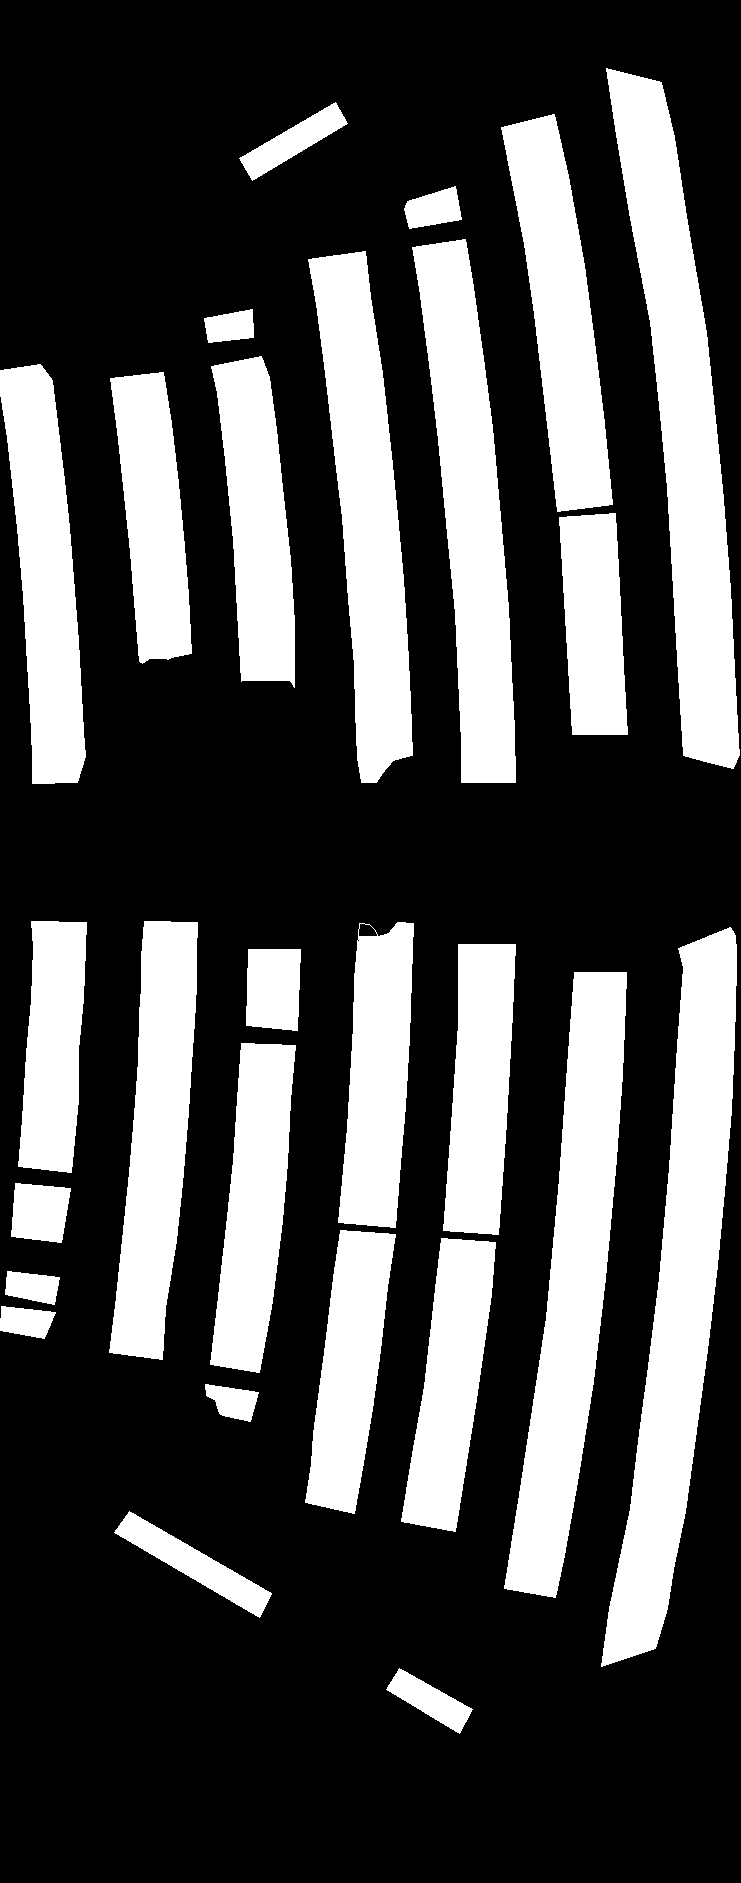parkingspot: (600, 927, 736, 1666), (606, 68, 739, 769), (504, 972, 626, 1597), (412, 239, 515, 782), (307, 251, 412, 782), (501, 114, 612, 512), (109, 921, 197, 1359), (0, 364, 85, 783), (210, 1044, 295, 1371), (211, 355, 294, 687), (401, 1238, 495, 1531), (305, 1230, 395, 1513), (110, 372, 191, 663), (337, 922, 413, 1227), (443, 944, 515, 1235), (18, 921, 86, 1172), (114, 1511, 271, 1616), (558, 513, 627, 734), (239, 102, 347, 180), (386, 1668, 472, 1733), (246, 949, 300, 1030), (11, 1183, 70, 1242), (404, 186, 461, 228), (205, 1383, 258, 1421), (5, 1271, 59, 1304), (0, 1307, 55, 1338), (204, 309, 253, 342)
